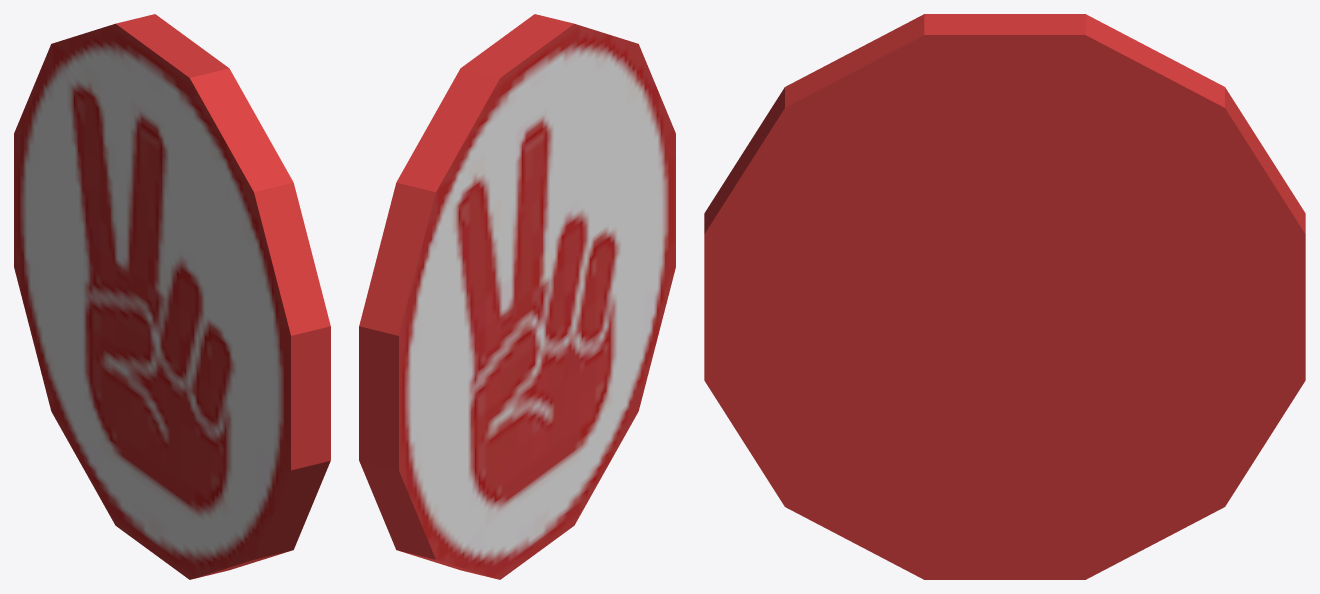
Rendered from RedScissorsIcon.fbx.
The picture shows the model from 3 angles, left to right: view 1: azimuth 30°, elevation 25°; view 2: azimuth 150°, elevation 25°; view 3: azimuth 270°, elevation 25°; orthographic projection. The views are drawn at different scales.
Parts seen in each view (by area): view 1: Cylinder; view 2: Cylinder; view 3: Cylinder.
Boxes of the visible parts, <box> form: Cylinder: <box>14,14,330,579</box>; Cylinder: <box>359,14,675,579</box>; Cylinder: <box>704,14,1305,579</box>.
Size of the model in its own units: 48.3 by 48.3 by 4.
